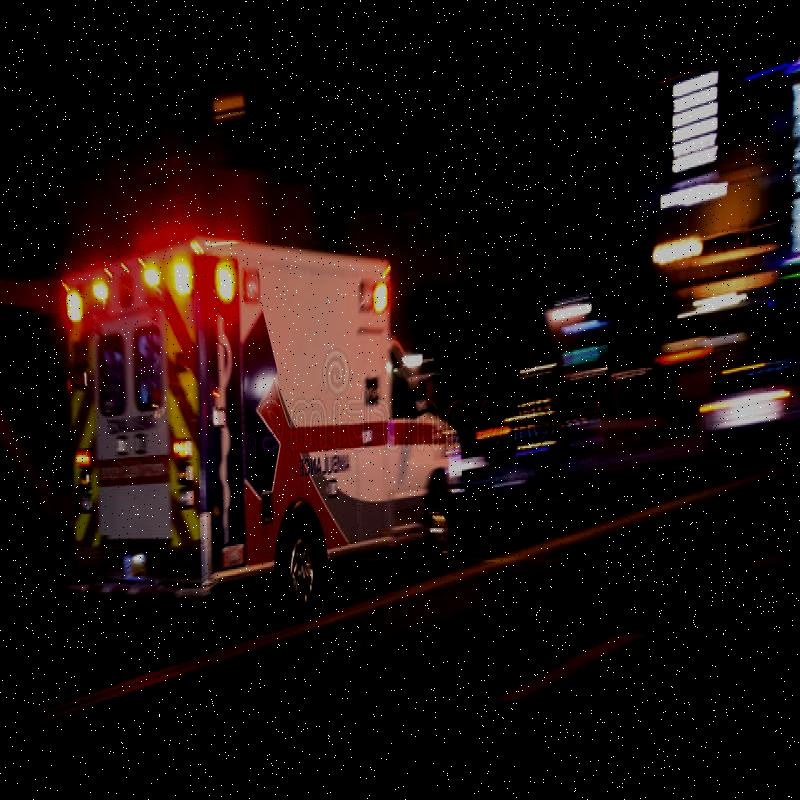ambulance: (62, 228, 468, 624)
